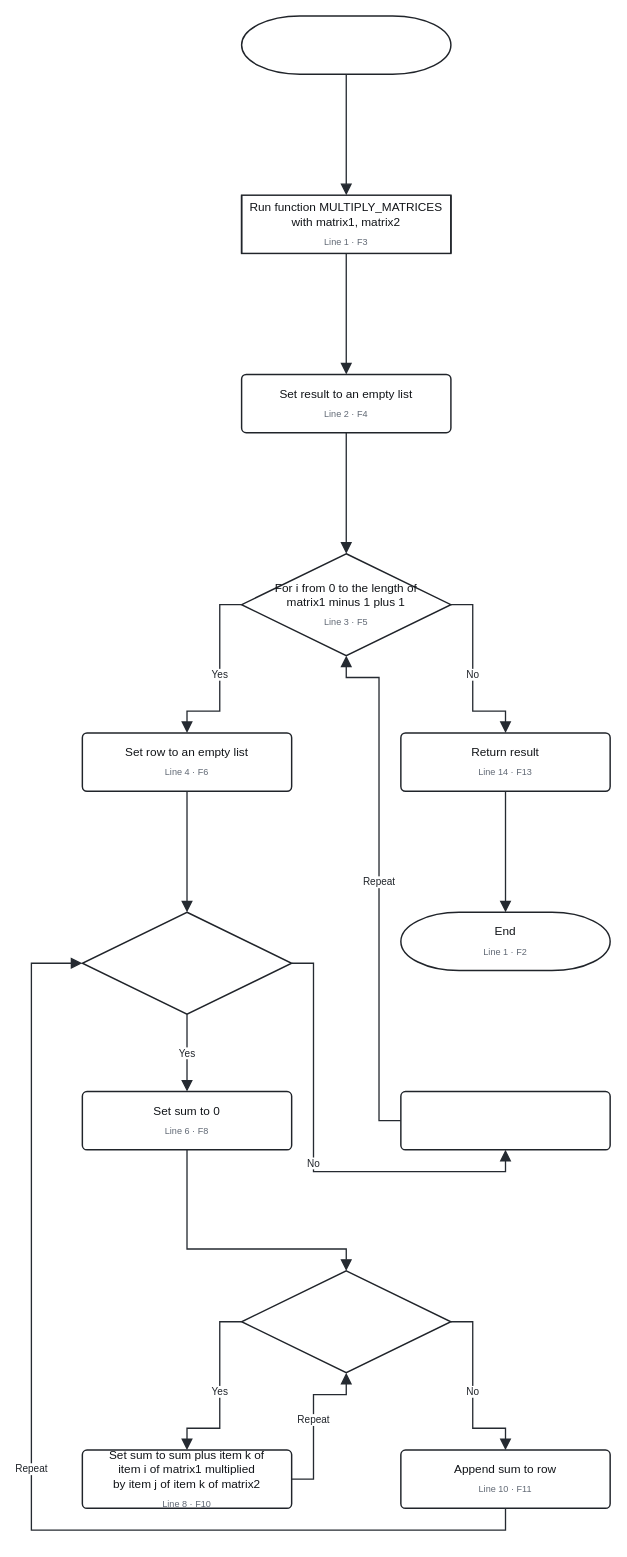
This 627x1557 diagram has some shape labels left out. The shapes that lost their labels are listed below. From the top down, each one's box as (x1, y1, x2, y2) in pixels, then its label:
(240, 15, 451, 74): Start Line 1 · F1
(81, 911, 292, 1014): For j from 0 to the length of item 0 of matrix2 minus 1 plus 1 Line 5 · F7
(400, 1090, 610, 1150): Append row to result Line 12 · F12
(240, 1270, 451, 1373): For k from 0 to the length of item 0 of matrix1 minus 1 plus 1 Line 7 · F9
